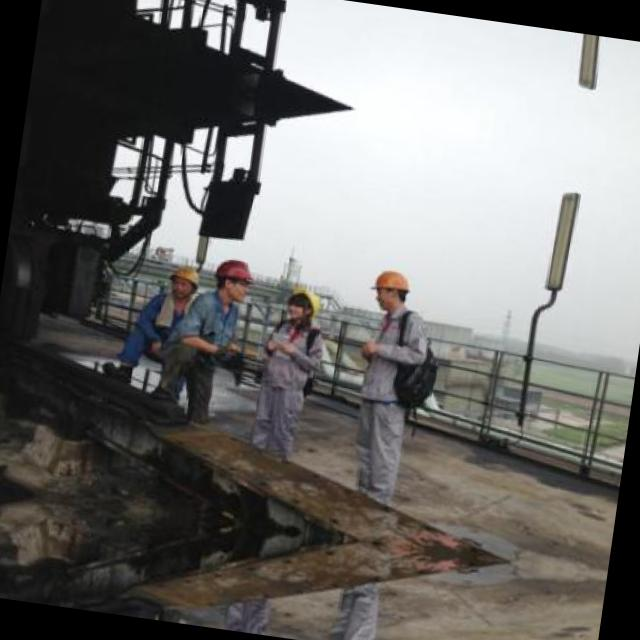helmet: (366, 262, 416, 318), (210, 253, 256, 303), (165, 261, 206, 304), (281, 284, 319, 328)
